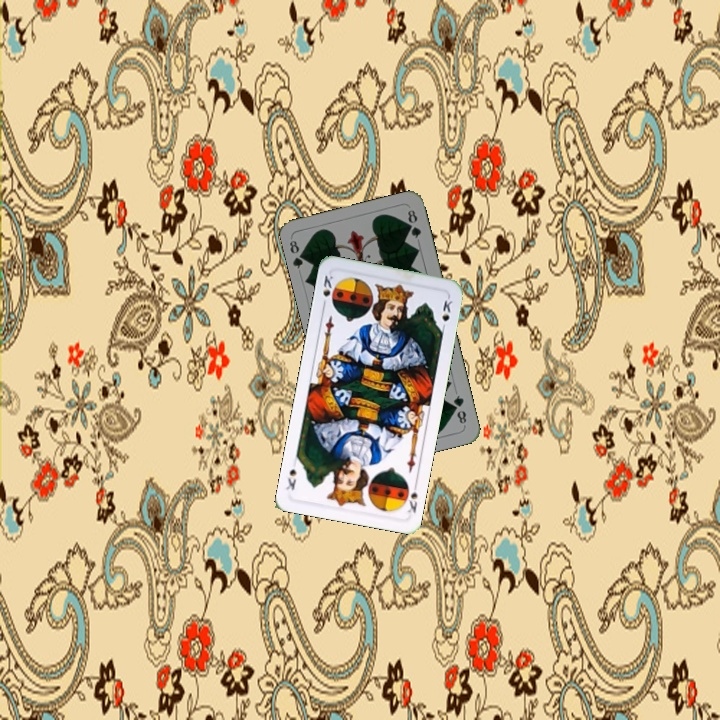G8: (285, 236, 309, 271), (449, 391, 469, 426)
SK: (318, 271, 336, 310), (403, 478, 420, 516)
